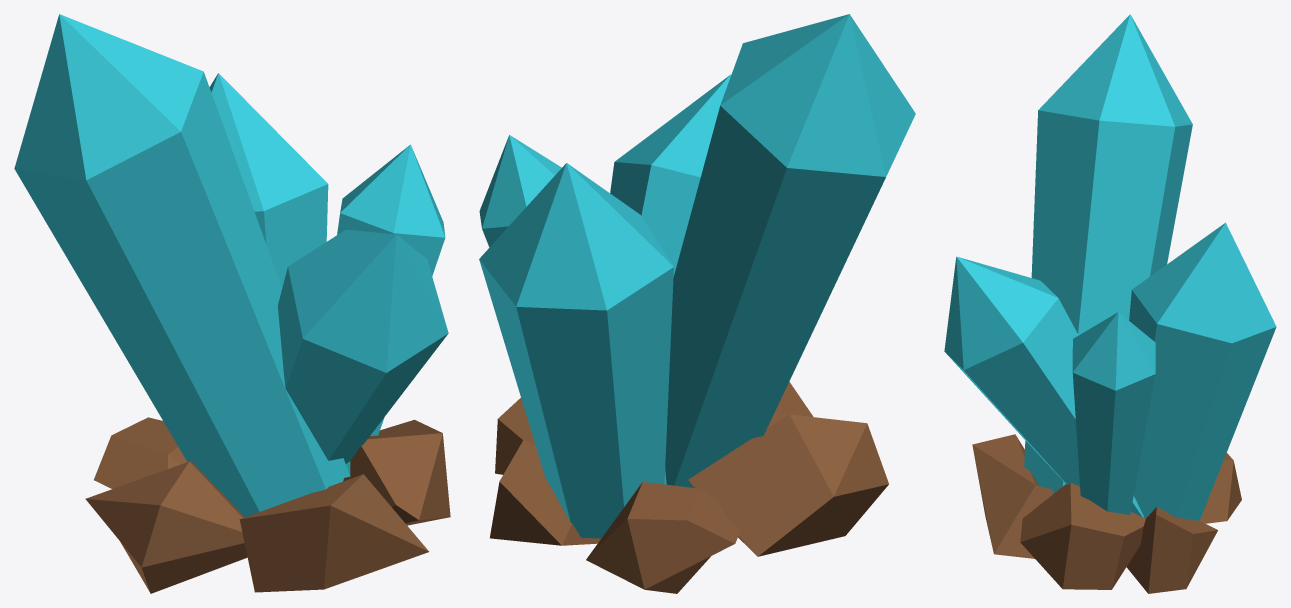
Rendered from nature_gems.fbx.
3 renders of one model, left to right at view 1: azimuth 30°, elevation 25°; view 2: azimuth 150°, elevation 25°; view 3: azimuth 270°, elevation 25°, orthographic. The views are drawn at different scales.
Visible parts, largest first — view 1: nature_gems; view 2: nature_gems; view 3: nature_gems.
Part boxes in pixels (x1=…): nature_gems: x1=14, y1=14, x2=450, y2=593; nature_gems: x1=479, y1=14, x2=915, y2=593; nature_gems: x1=944, y1=14, x2=1276, y2=593.
Size of the model in its own units: 149 by 200 by 131.
